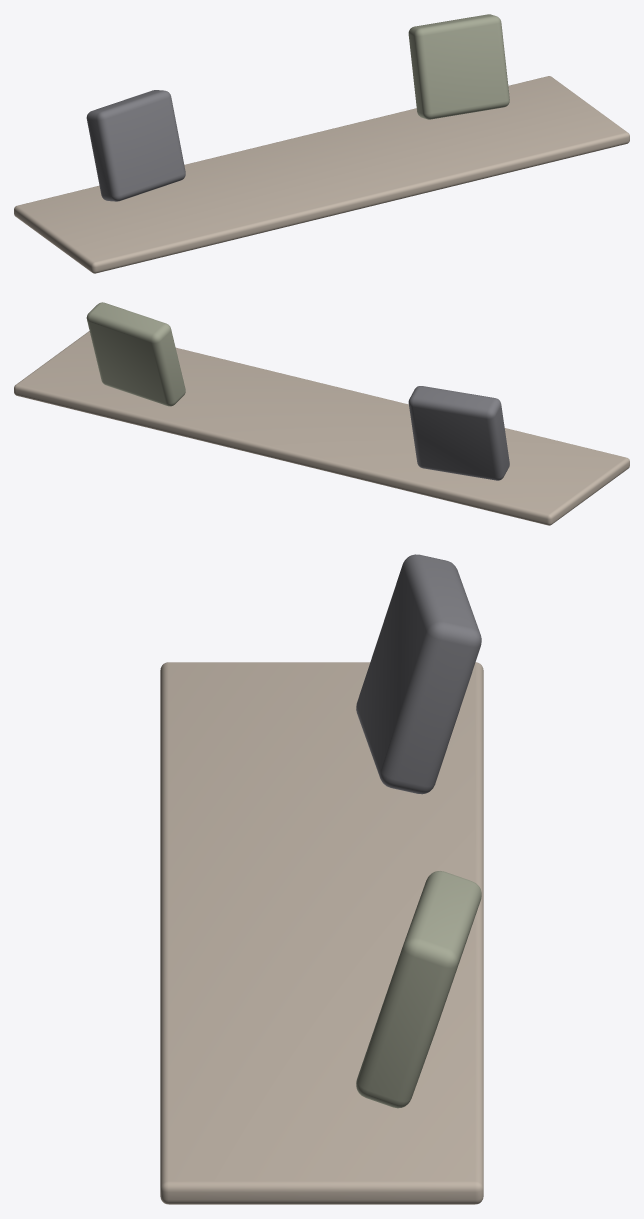
Rendered from it_bay_cushion.glb.
3 views of the same model, one above another, from view 1: azimuth 30°, elevation 25°; view 2: azimuth 150°, elevation 25°; view 3: azimuth 270°, elevation 25° (orthographic). The views are drawn at different scales.
Parts seen in each view (by area): view 1: pad, c2, c1; view 2: pad, c1, c2; view 3: pad, c1, c2.
Boxes of the visible parts, <box> form: pad: <box>14,76,629,273</box>; c2: <box>408,14,509,119</box>; c1: <box>86,90,185,201</box>; pad: <box>14,331,629,525</box>; c1: <box>408,386,509,480</box>; c2: <box>86,302,185,406</box>; pad: <box>160,662,483,1204</box>; c1: <box>356,554,481,794</box>; c2: <box>356,871,481,1108</box>.
Size of the model in its own units: 3 by 0.5269 by 0.78.
